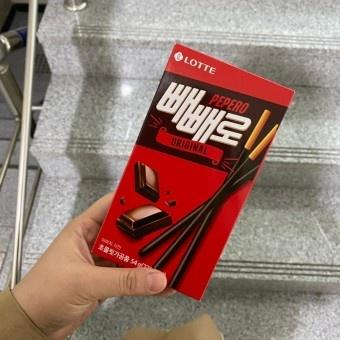snack: (89, 40, 295, 302)
